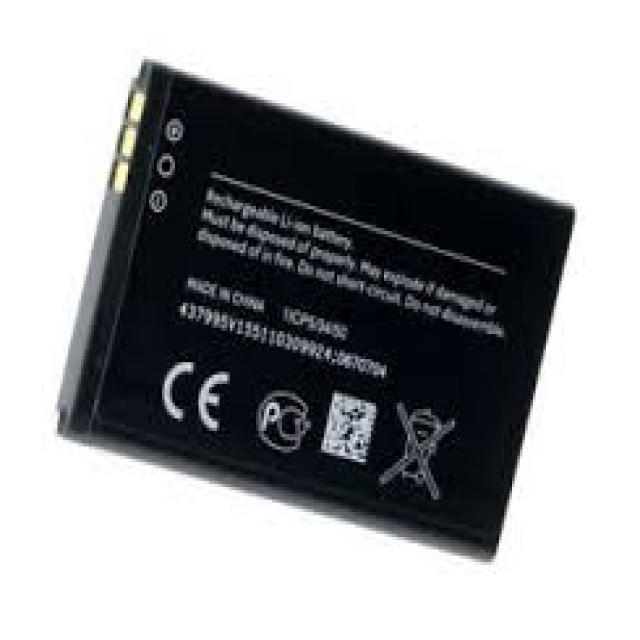battery: (52, 62, 580, 566)
